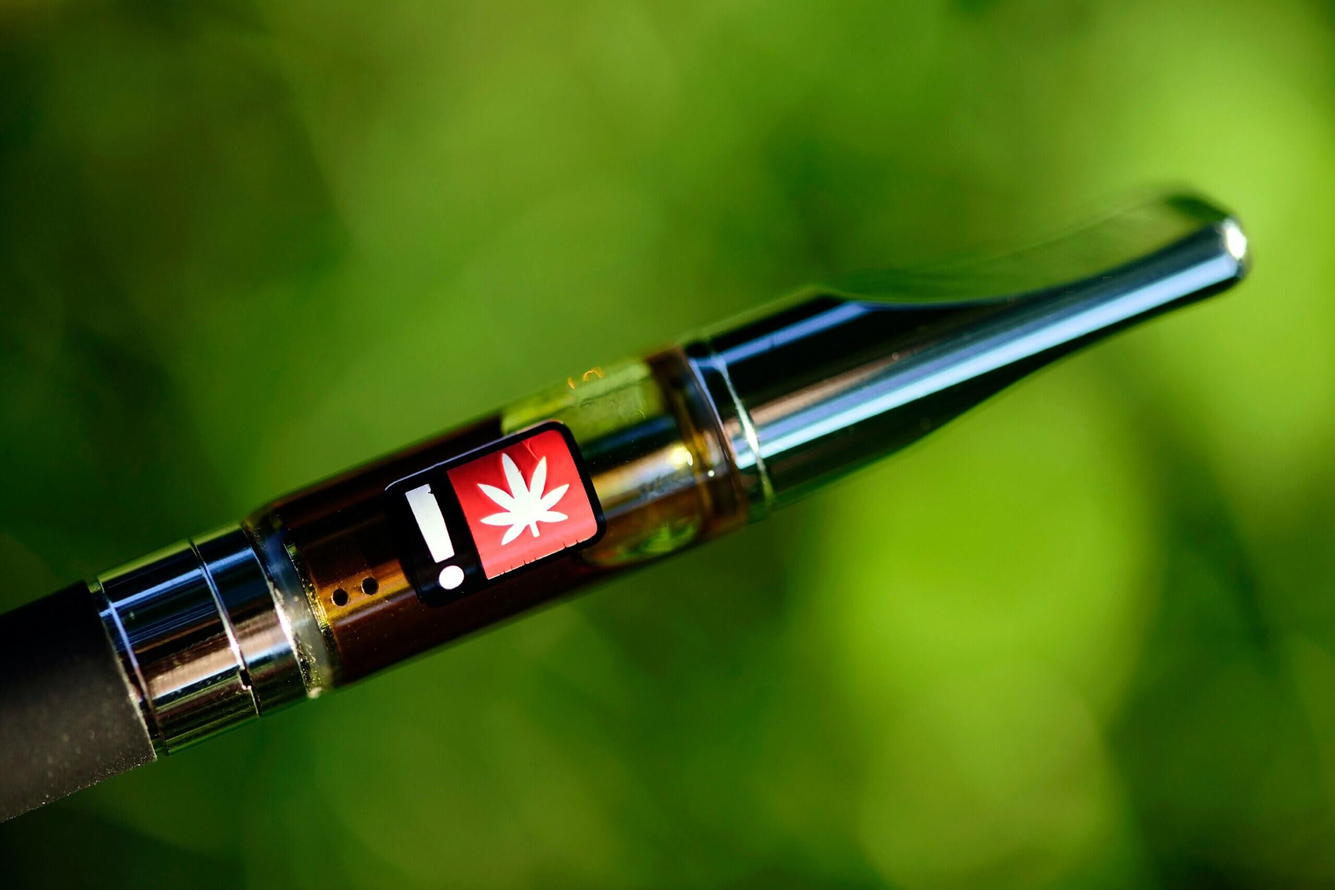weed_pen: (0, 100, 1313, 839)
